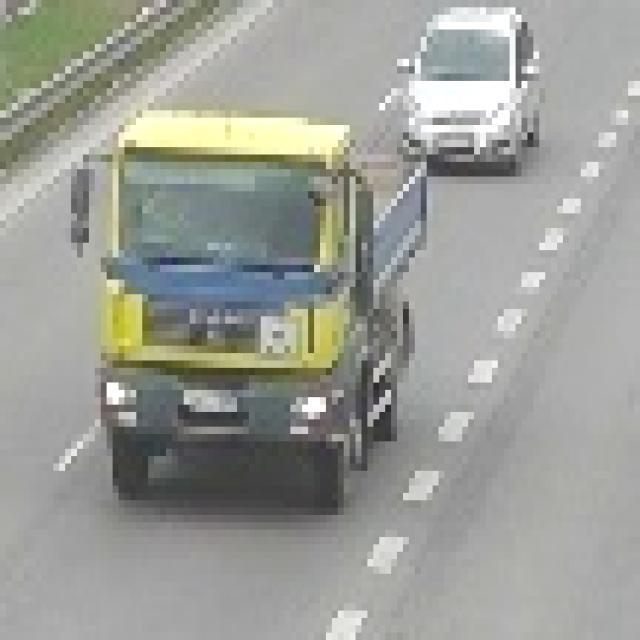truck: (60, 104, 428, 501)
